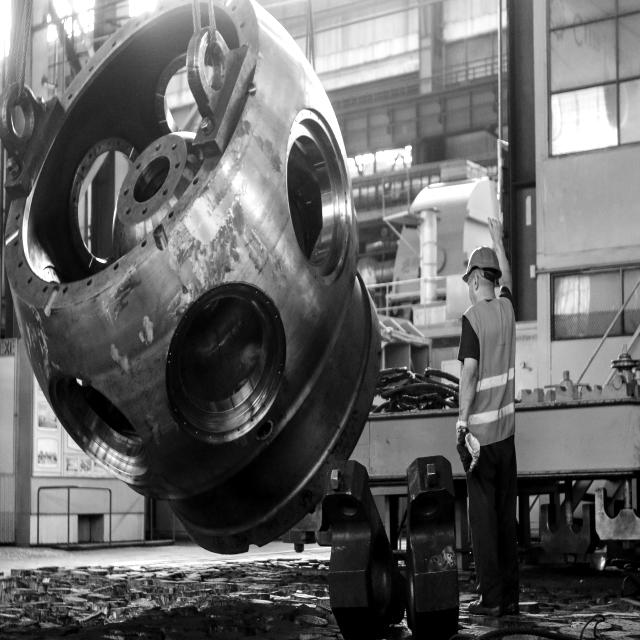Vest: (461, 297, 518, 447)
